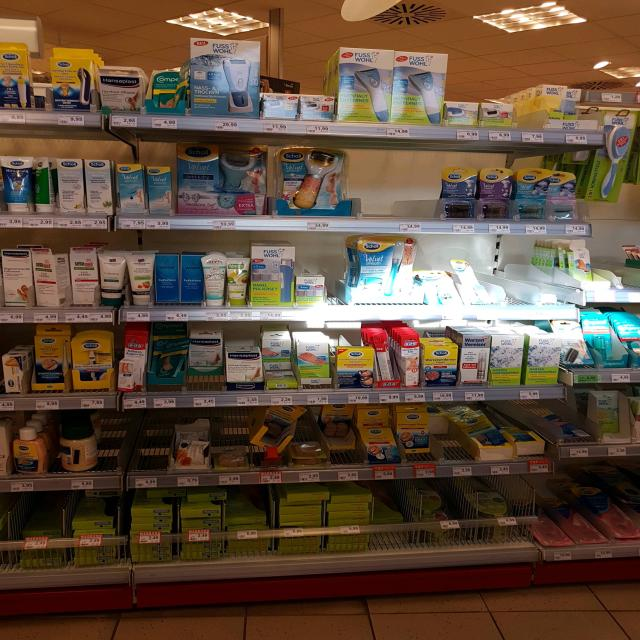empty: (352, 151, 447, 230), (501, 227, 567, 311)
